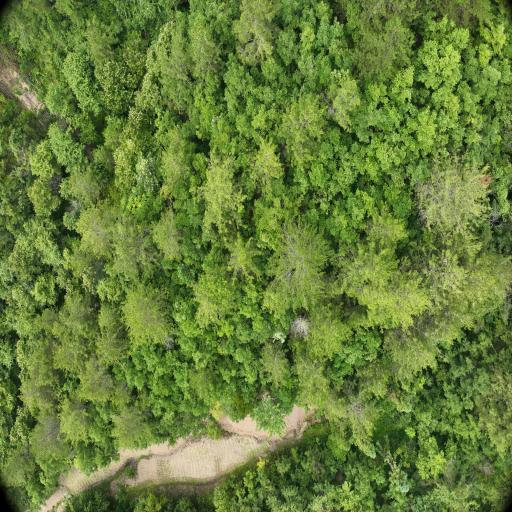sick-tree: (477, 175, 492, 193)
